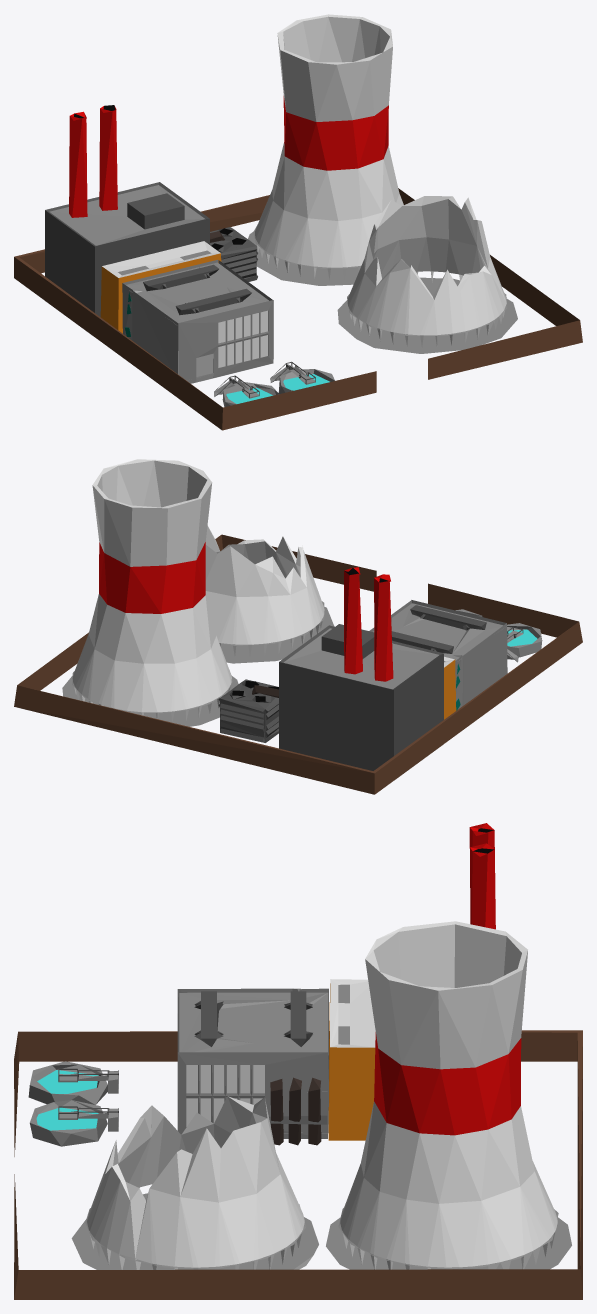
The model's file is powerLOD1.fbx.
The picture shows the model from 3 angles, top to bottom: view 1: azimuth 30°, elevation 25°; view 2: azimuth 150°, elevation 25°; view 3: azimuth 270°, elevation 25°; orthographic projection. The views are drawn at different scales.
Parts seen in each view (by area): view 1: Plane; view 2: Plane; view 3: Plane.
Boxes of the visible parts, box(x1,y1,x2,y2) form: Plane: box(14, 14, 582, 430); Plane: box(14, 459, 582, 794); Plane: box(14, 823, 582, 1299).
Size of the model in its own units: 7238 by 4107 by 7238.
